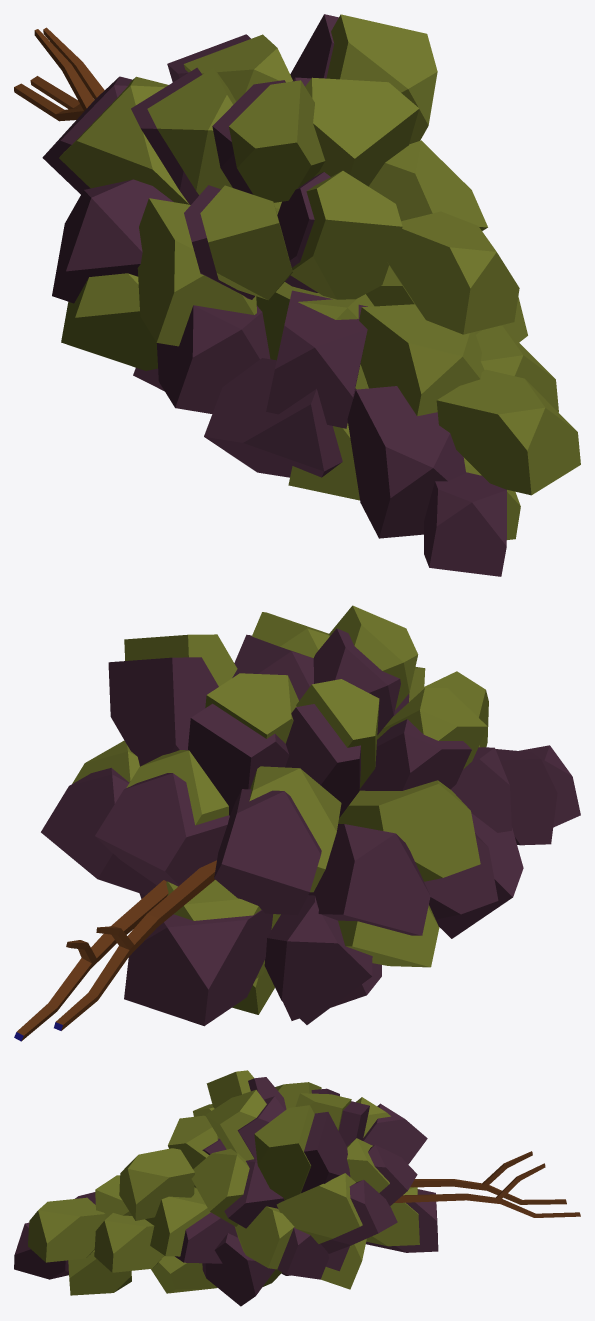
File: Grape.fbx
The picture shows the model from 3 angles, top to bottom: view 1: azimuth 30°, elevation 25°; view 2: azimuth 150°, elevation 25°; view 3: azimuth 270°, elevation 25°; orthographic projection. The views are drawn at different scales.
Parts seen in each view (by area): view 1: Grape_Green_All, Grape_Purple_All; view 2: Grape_Purple_All, Grape_Green_All; view 3: Grape_Green_All, Grape_Purple_All.
Part boxes in pixels (bbox=[...]): Grape_Green_All: bbox=[14, 14, 580, 539]; Grape_Purple_All: bbox=[30, 14, 506, 576]; Grape_Purple_All: bbox=[14, 628, 580, 1041]; Grape_Green_All: bbox=[54, 605, 488, 1030]; Grape_Green_All: bbox=[28, 1070, 566, 1295]; Grape_Purple_All: bbox=[14, 1077, 580, 1306].
Size of the model in its own units: 9.78 by 9.89 by 23.87.
